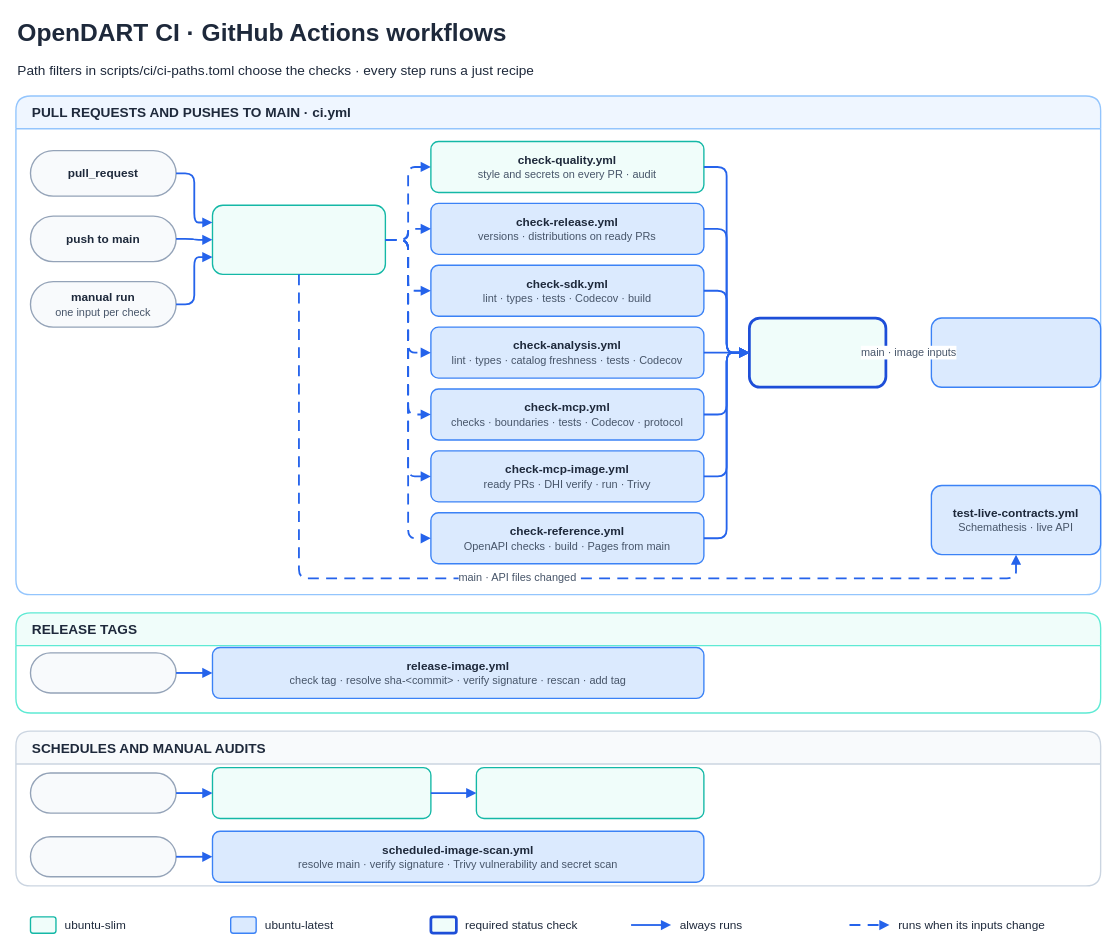
The diagram is 1117 pixels wide and 951 high, and some of its shapes have lost their labels. The centre of each missing label's shape, as x and y in pixels:
"check-quality.yml Zizmor · pip-audit · Lychee links" goes at point 589,792.
"CI checks required · alls-green" goes at point 817,352.
"Daily 05:23 UTC" goes at point 102,856.
"Monday 08:23 UTC" goes at point 102,792.
"publish-mcp-image.yml build · test · sign · promote" goes at point 1015,352.
"scheduled-audits.yml calls check-quality.yml" goes at point 321,792.
"Select checks changed files × filters" goes at point 298,239.
"tag vX.Y.Z" goes at point 102,672.
